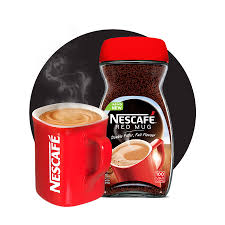nescafe-classic/gold-med: (95, 38, 175, 197)
nescafe-mug: (31, 102, 113, 208)
